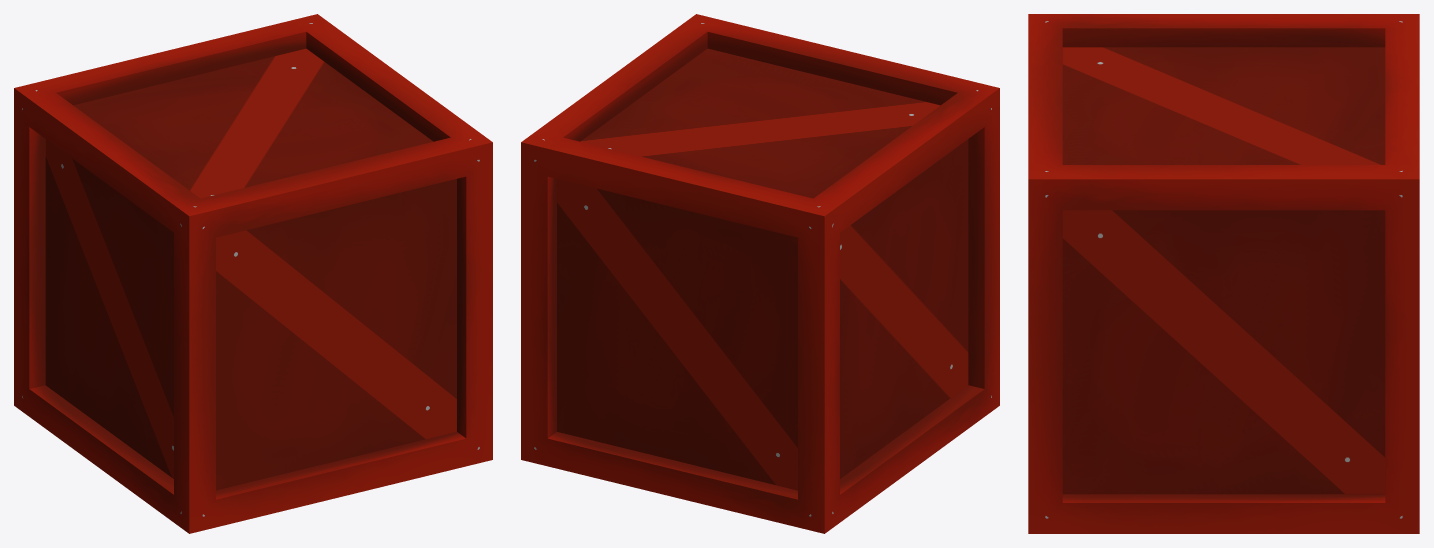
The model's file is Crate.fbx.
The picture shows the model from 3 angles, left to right: view 1: azimuth 30°, elevation 25°; view 2: azimuth 150°, elevation 25°; view 3: azimuth 270°, elevation 25°; orthographic projection. The views are drawn at different scales.
Visible parts, largest first — view 1: Cube; view 2: Cube; view 3: Cube.
Part boxes in pixels (box(x1,y1,x2,y2)): Cube: box(14, 14, 492, 533); Cube: box(521, 14, 999, 533); Cube: box(1028, 14, 1419, 533).
Size of the model in its own units: 200 by 200 by 200.
